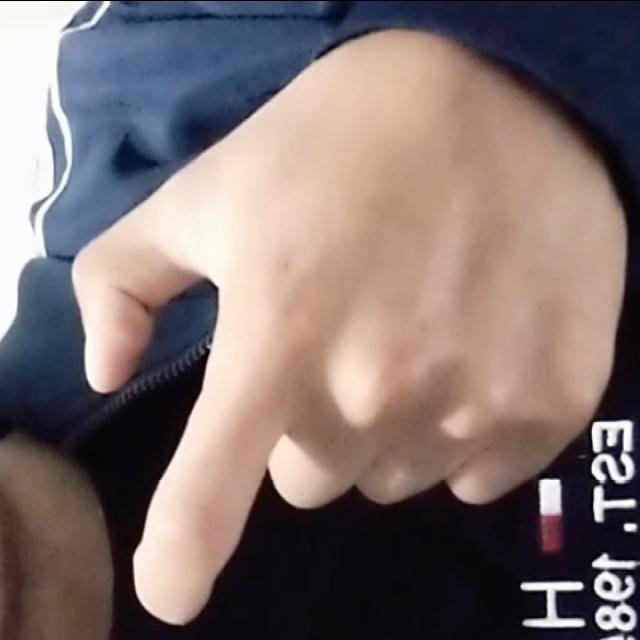Q: (65, 35, 627, 630)
